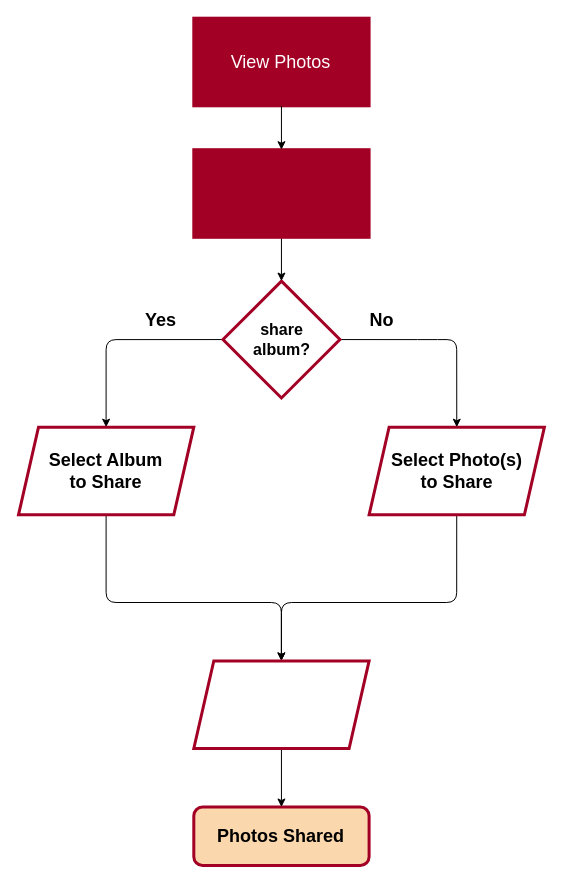
The diagram is 563 pixels wide and 885 high, and some of its shapes have lost their labels. The centre of each missing label's shape, as x and y in pixels:
Enter recipient email: (281,704)
Share Photos: (281,193)
